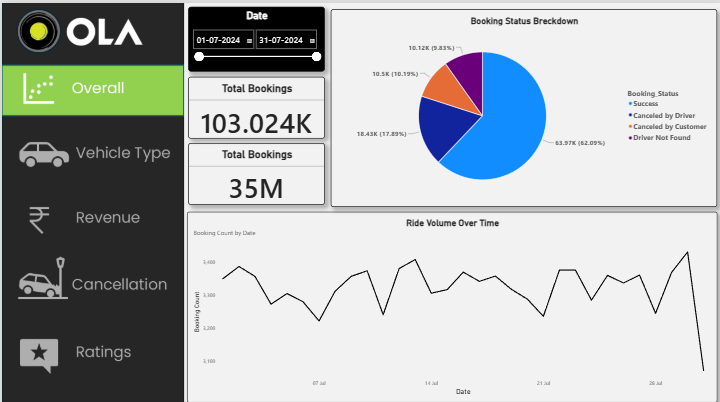

Layout of this report page (visuals, bound fields, positions):
{"tool":"powerbi","page":{"name":"Overall","canvas":[1920,1080],"ordinal":0},"visuals":[{"type":"actionButton","box":[0,337.9,490.3,130.2],"z":0},{"type":"actionButton","box":[0,509.6,490.3,130.2],"z":1000},{"type":"actionButton","box":[0,872.5,490.3,130.2],"z":2000},{"type":"actionButton","box":[0,667.5,490.3,130.2],"z":3000},{"type":"lineChart","title":"Ride Volume Over Time","fields":{"Category":["July.Date"],"Y":["CountNonNull(July.Booking_ID)"]},"box":[491.9,557.8,1414.1,508.4],"z":4000},{"type":"pieChart","title":"Booking Status Breckdown","fields":{"Category":["July.Booking_Status"],"Y":["CountNonNull(July.Booking_Status)"]},"box":[875,15,1030,527.5],"z":5000},{"type":"slicer","title":"Date","fields":{"Values":["July.Date"]},"box":[496.1,10.3,364.3,172.9],"z":6000},{"type":"cardVisual","title":"Total Bookings","fields":{"Data":["CountNonNull(July.Booking_ID)"]},"box":[496.1,195.5,364.3,164.7],"z":7000},{"type":"cardVisual","title":"Total Bookings","fields":{"Data":["Sum(July.Booking_Value)"]},"box":[498.1,372.6,364.3,164.7],"z":8000}]}

Visuals, with their boxes in screenshot pixels (x1, y1, x2, y2), scaled from the page's 1920x1080 canvas onto the 720x402 screenshot:
actionButton: {"x1": 0, "y1": 126, "x2": 184, "y2": 174}
actionButton: {"x1": 0, "y1": 190, "x2": 184, "y2": 238}
actionButton: {"x1": 0, "y1": 325, "x2": 184, "y2": 373}
actionButton: {"x1": 0, "y1": 248, "x2": 184, "y2": 297}
"Ride Volume Over Time" lineChart: {"x1": 184, "y1": 208, "x2": 715, "y2": 397}
"Booking Status Breckdown" pieChart: {"x1": 328, "y1": 6, "x2": 714, "y2": 202}
"Date" slicer: {"x1": 186, "y1": 4, "x2": 323, "y2": 68}
"Total Bookings" cardVisual: {"x1": 186, "y1": 73, "x2": 323, "y2": 134}
"Total Bookings" cardVisual: {"x1": 187, "y1": 139, "x2": 323, "y2": 200}
